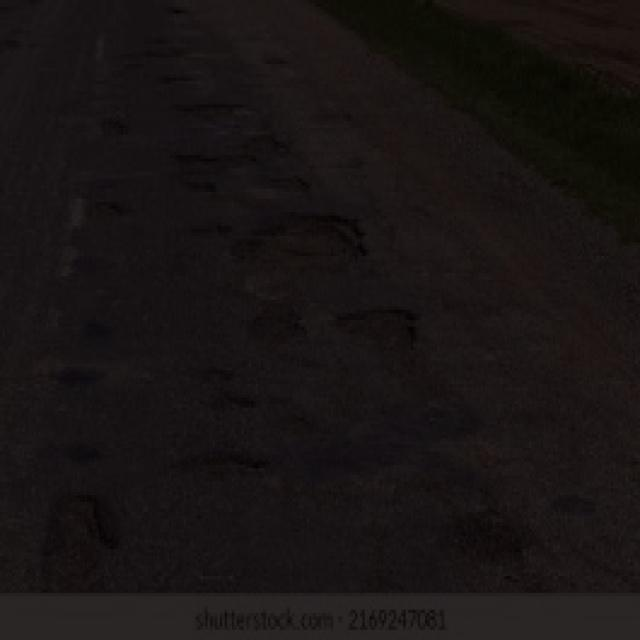Pothole: (26, 491, 126, 598), (247, 205, 381, 277), (318, 295, 432, 358), (161, 144, 258, 198), (156, 91, 259, 127), (246, 298, 318, 349), (258, 168, 314, 197), (215, 383, 264, 415), (149, 66, 203, 95), (97, 115, 138, 149), (232, 448, 274, 481), (90, 197, 134, 224)
